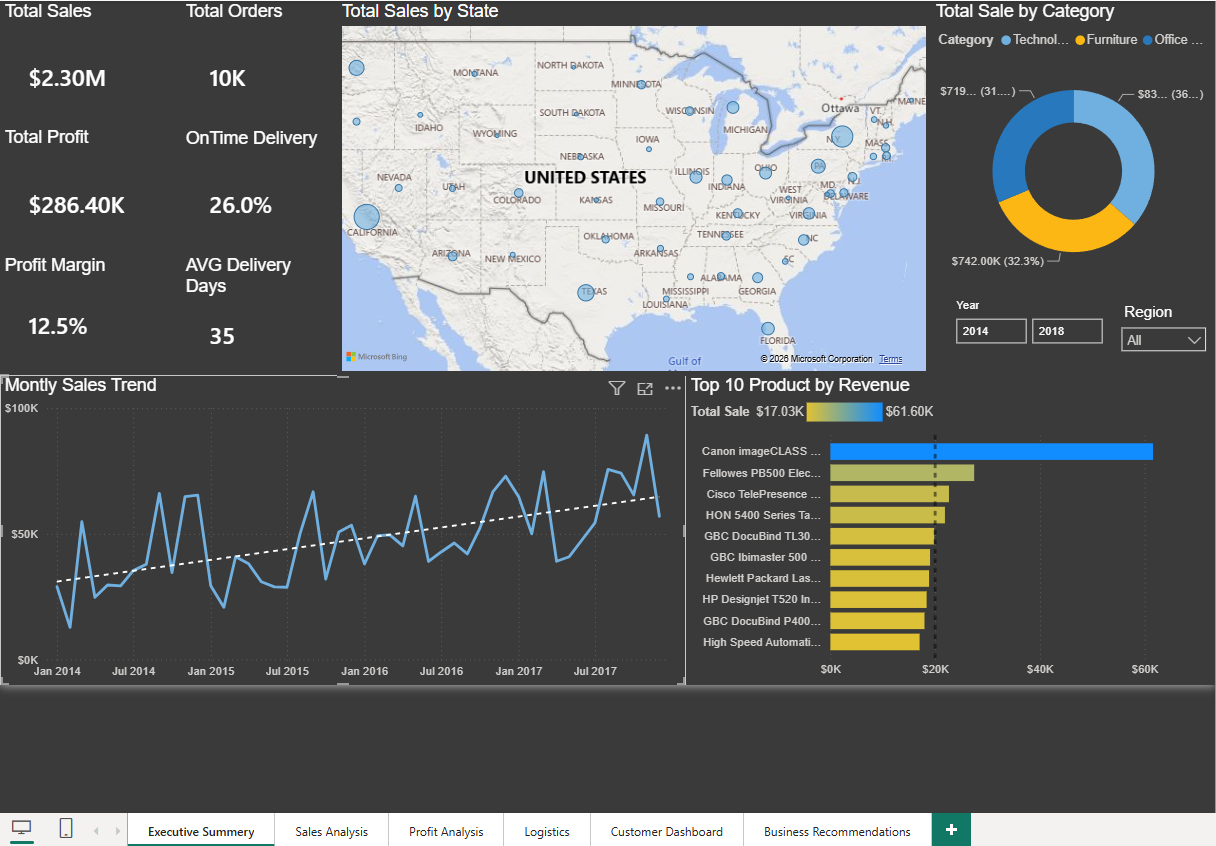

The dashboard page shown, as its layout file describes it:
{"tool":"powerbi","page":{"name":"Executive Summery","canvas":[1280,720],"ordinal":0},"visuals":[{"type":"cardVisual","title":"Total Sales ","fields":{"Data":["_Measures.Total Sale"]},"box":[0,0,190.5,132.6],"z":0},{"type":"cardVisual","title":"Total Profit","fields":{"Data":["_Measures.Total Profit"]},"box":[0,132.6,190.5,134.7],"z":1000},{"type":"cardVisual","title":"Profit Margin","fields":{"Data":["_Measures.Profit Margin %"]},"box":[0,267.4,190.5,121.1],"z":2000},{"type":"cardVisual","title":"Total Orders","fields":{"Data":["_Measures.Total Orders"]},"box":[190.5,0,164.2,132.6],"z":3000},{"type":"cardVisual","title":"AVG Delivery Days","fields":{"Data":["_Measures.Average Delivery Days"]},"box":[190.5,267.4,164.2,121.1],"z":4000},{"type":"cardVisual","title":"OnTime Delivery","fields":{"Data":["_Measures.On Time Delivery %"]},"box":[190.5,133.7,164.2,133.7],"z":5000},{"type":"lineChart","title":"Montly Sales Trend","fields":{"Y":["_Measures.Total Sale"],"Category":["DimDate.Month & Year"]},"box":[0,393.7,722.1,327.4],"z":6000},{"type":"map","title":"Total Sales by State","fields":{"Category":["FactOrders.State"],"Size":["Sum(FactOrders.Sales)"]},"box":[354.7,0,625.3,393.7],"z":7000},{"type":"donutChart","fields":{"Y":["_Measures.Total Sale"],"Category":["FactOrders.Category"]},"box":[980,0,300,308.4],"z":7001},{"type":"clusteredBarChart","title":"Top 10 Product by Revenue","fields":{"Y":["_Measures.Total Sale"],"Category":["FactOrders.Product Name"]},"box":[722.1,393.7,557.9,326.3],"z":7002},{"type":"slicer","fields":{"Values":["DimDate.Year"]},"box":[993.7,308.4,176.8,85.3],"z":7003},{"type":"slicer","fields":{"Values":["FactOrders.Region"]},"box":[1170.5,313.7,109.5,91.6],"z":7004}]}

Visuals, with their boxes on the page's 1280x720 design canvas (x1, y1, x2, y2). These are canvas units, not pixel positions in the 1216x846 screenshot, which may show the page scaled, cropped or inside an application window:
"Total Sales " cardVisual: bbox=[0, 0, 190, 133]
"Total Profit" cardVisual: bbox=[0, 133, 190, 267]
"Profit Margin" cardVisual: bbox=[0, 267, 190, 388]
"Total Orders" cardVisual: bbox=[190, 0, 355, 133]
"AVG Delivery Days" cardVisual: bbox=[190, 267, 355, 388]
"OnTime Delivery" cardVisual: bbox=[190, 134, 355, 267]
"Montly Sales Trend" lineChart: bbox=[0, 394, 722, 721]
"Total Sales by State" map: bbox=[355, 0, 980, 394]
donutChart - _Measures.Total Sale x FactOrders.Category: bbox=[980, 0, 1280, 308]
"Top 10 Product by Revenue" clusteredBarChart: bbox=[722, 394, 1280, 720]
slicer - DimDate.Year: bbox=[994, 308, 1170, 394]
slicer - FactOrders.Region: bbox=[1170, 314, 1280, 405]
